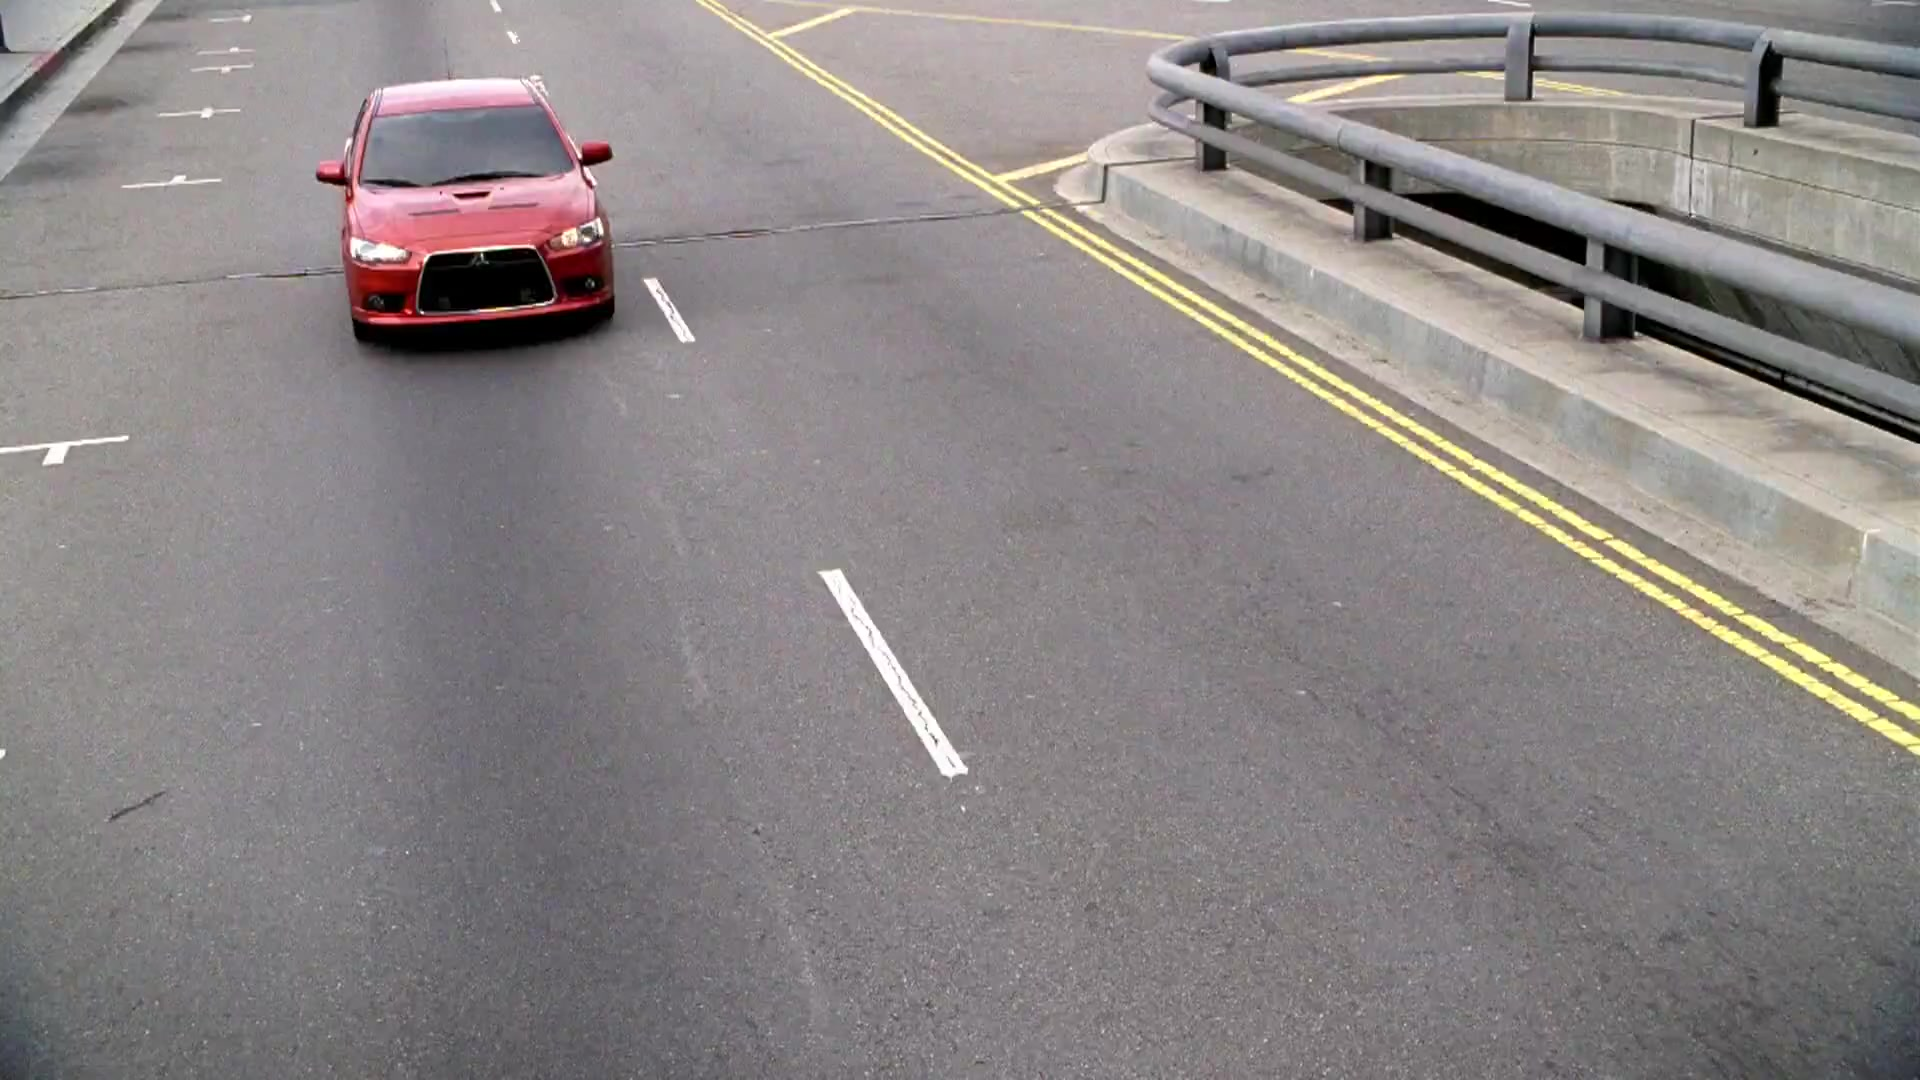car: (316, 80, 626, 355)
